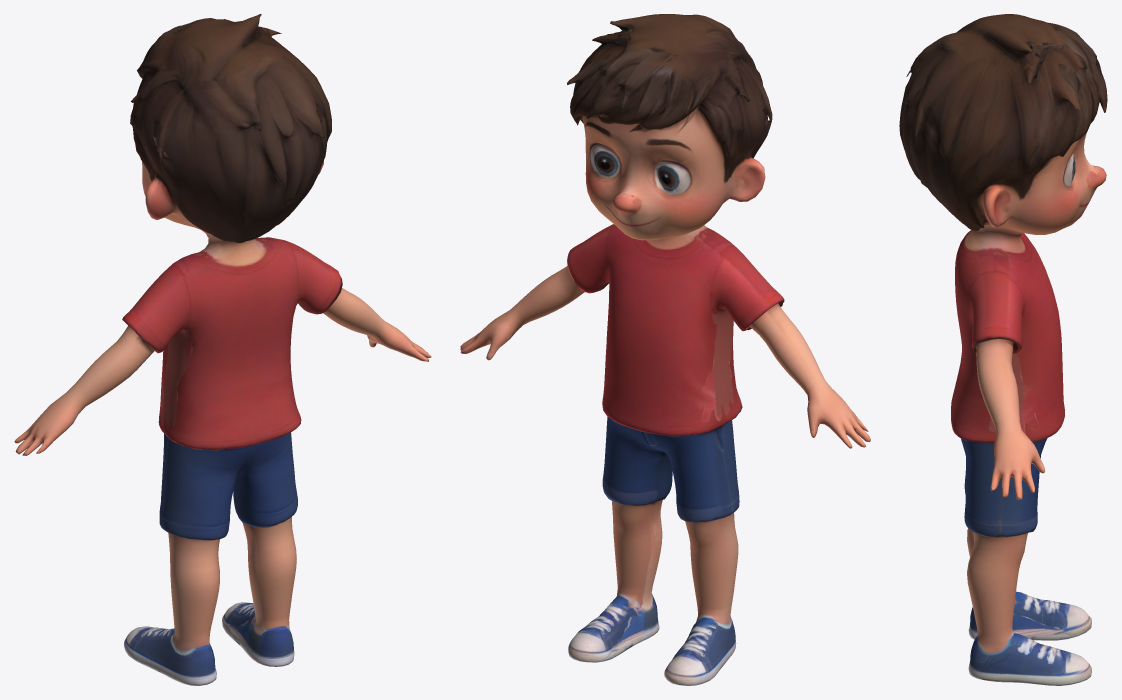
The model's file is kid2.fbx.
3 views of the same model, side by side, from view 1: azimuth 30°, elevation 25°; view 2: azimuth 150°, elevation 25°; view 3: azimuth 270°, elevation 25° (orthographic).
Visible parts, largest first — view 1: input; view 2: input; view 3: input.
Boxes of the visible parts, x1,y1,x2,y2 form: input: [14, 14, 431, 685]; input: [460, 14, 870, 685]; input: [899, 14, 1107, 685].
Size of the model in its own units: 135 by 199 by 59.52.
1 material, 1 textured.
